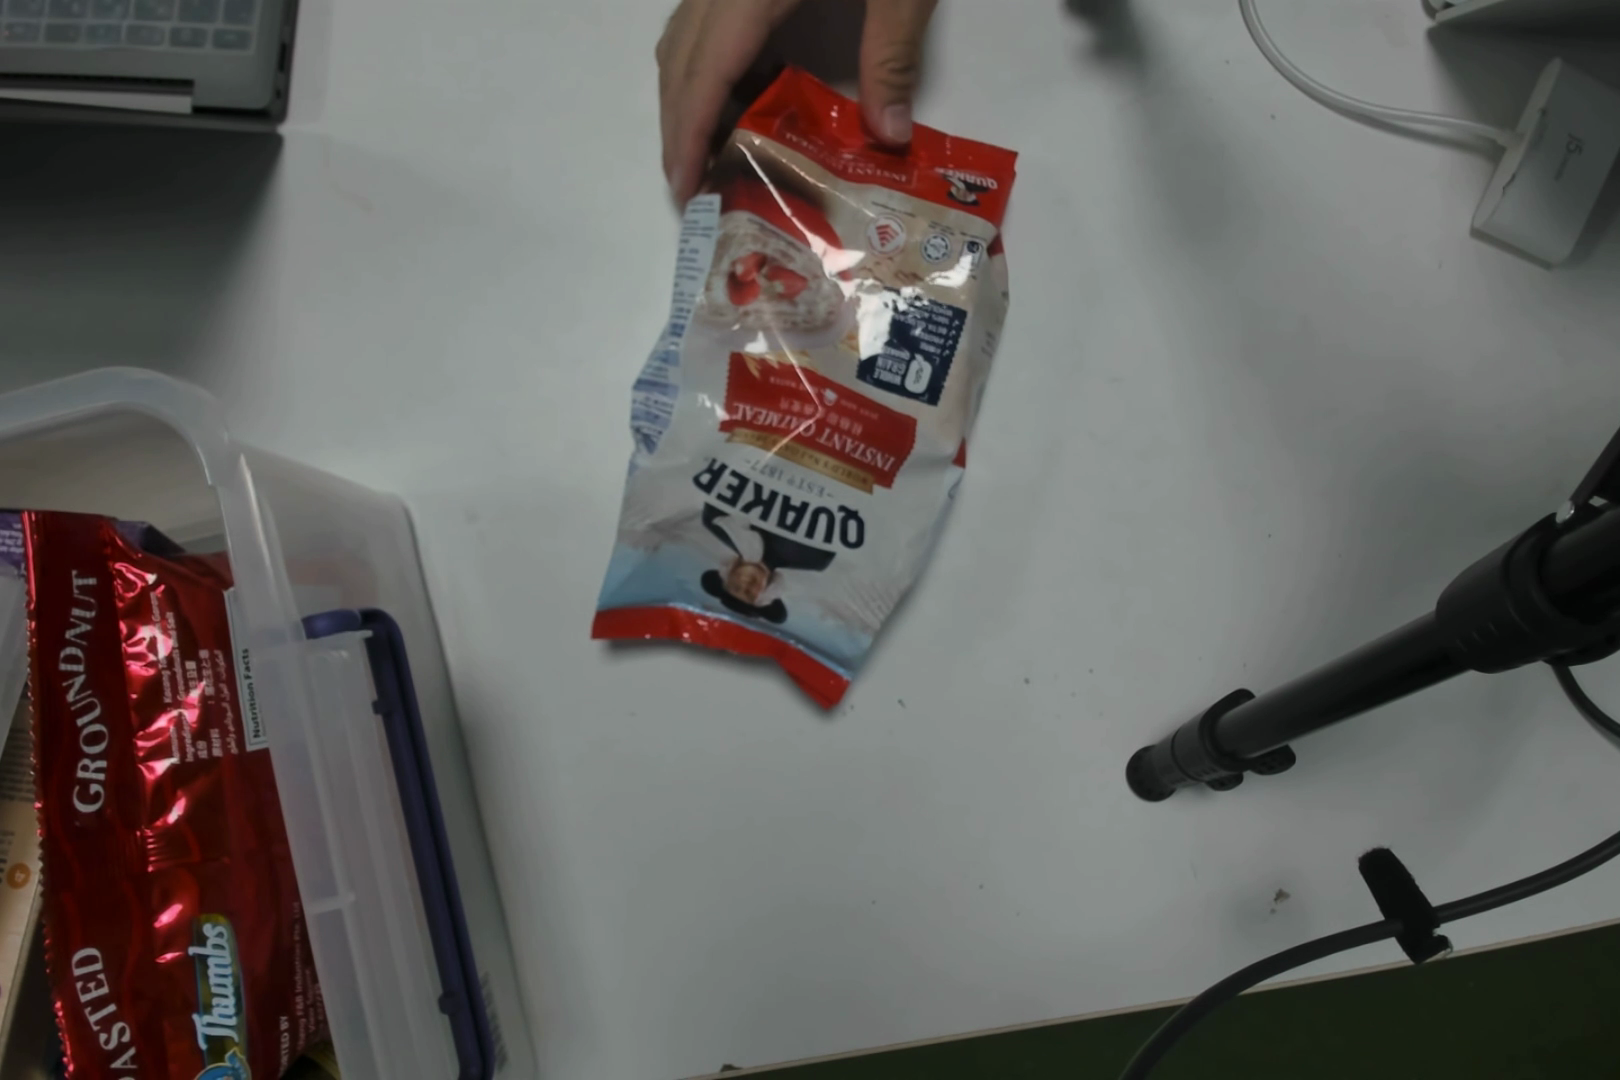RolledOatsInstantOatmeal_400-499g_Halal_Healthy: (668, 137, 988, 670)
